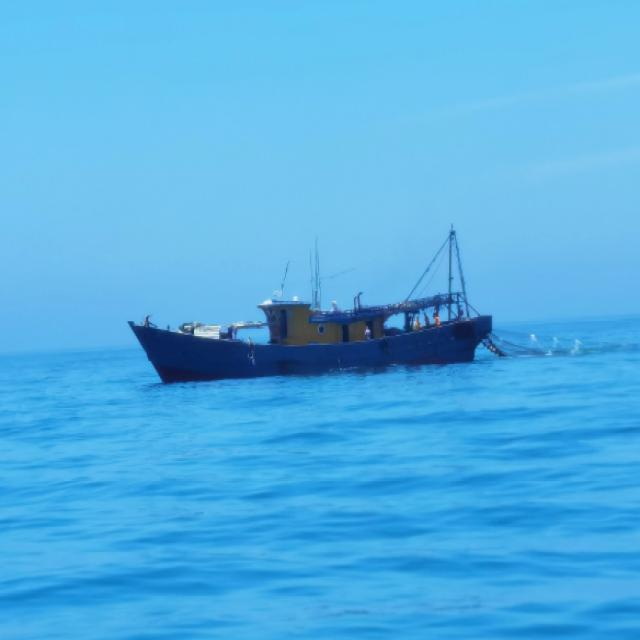fishing boat: (124, 227, 492, 387)
